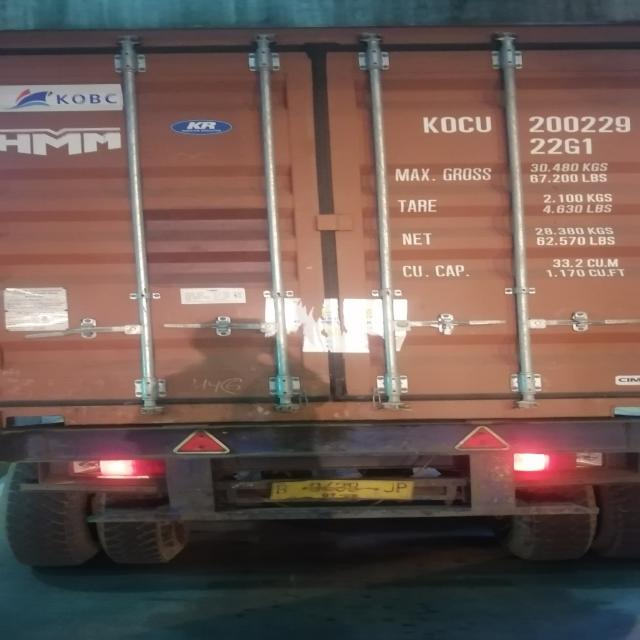seal: (442, 317, 457, 336)
